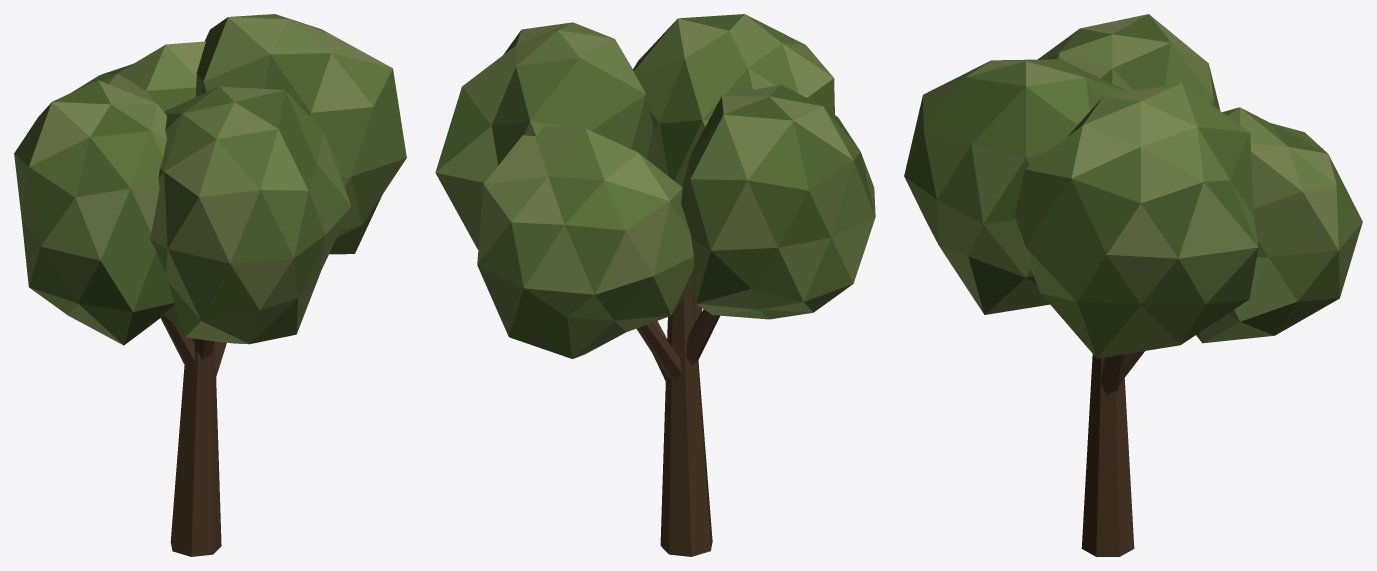
The model's file is Tree06.obj.
The picture shows the model from 3 angles, left to right: view 1: azimuth 30°, elevation 25°; view 2: azimuth 150°, elevation 25°; view 3: azimuth 270°, elevation 25°; orthographic projection. The views are drawn at different scales.
Visible parts, largest first — view 1: Crown.005, Trunk.005; view 2: Crown.005, Trunk.005; view 3: Crown.005, Trunk.005.
Boxes of the visible parts, left/top/right/bottom form: Crown.005: left=14, top=14, right=406, bottom=345; Trunk.005: left=160, top=315, right=226, bottom=556; Crown.005: left=435, top=14, right=875, bottom=358; Trunk.005: left=636, top=283, right=719, bottom=556; Crown.005: left=904, top=14, right=1362, bottom=358; Trunk.005: left=1081, top=351, right=1144, bottom=556.
Bounding box in the file's own units: 3.67 × 4.71 × 3.91.
